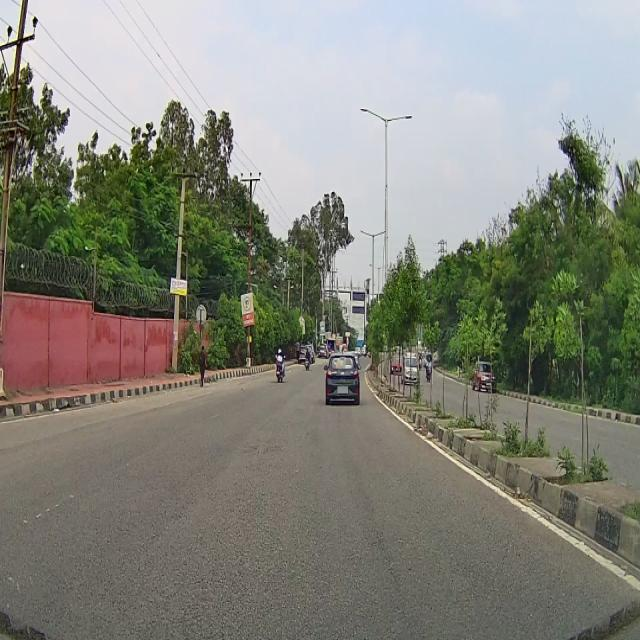car ahead at: (320, 346, 363, 410)
electric pole ahead at: (164, 156, 195, 370)
